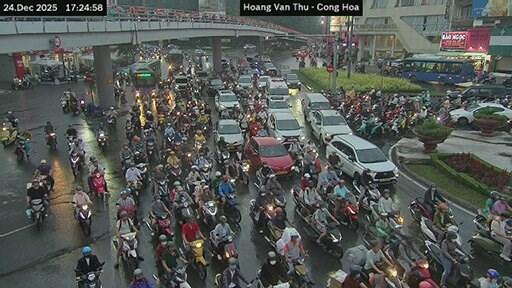motorbike: (467, 217, 502, 255), (179, 238, 207, 279), (447, 251, 473, 286), (208, 229, 236, 261), (153, 265, 189, 287), (336, 193, 358, 229), (319, 223, 342, 257), (374, 261, 403, 287), (74, 261, 102, 287), (249, 198, 274, 224), (121, 232, 137, 270), (359, 183, 380, 211), (409, 197, 434, 220), (297, 212, 320, 237), (26, 198, 44, 229), (294, 257, 312, 286), (425, 239, 440, 273), (153, 212, 172, 238), (153, 178, 169, 207), (176, 197, 195, 221), (419, 216, 437, 241), (224, 193, 240, 221), (201, 201, 216, 228), (90, 171, 105, 198), (0, 124, 18, 145), (387, 202, 403, 225), (76, 207, 89, 234), (128, 180, 140, 205), (237, 160, 249, 184), (134, 163, 147, 185), (167, 163, 182, 181), (445, 225, 460, 243), (474, 207, 486, 229), (214, 148, 229, 165), (13, 139, 25, 160), (365, 202, 378, 221), (473, 73, 495, 84), (70, 152, 80, 175), (96, 130, 106, 151), (147, 139, 156, 162), (199, 163, 210, 181), (121, 153, 131, 172), (47, 130, 56, 148), (70, 99, 80, 115), (361, 270, 370, 286), (124, 125, 134, 139), (194, 140, 204, 153), (60, 98, 69, 112), (352, 180, 359, 198), (105, 115, 115, 126), (327, 198, 336, 210), (79, 95, 85, 112), (66, 135, 73, 149), (502, 76, 511, 86), (112, 238, 118, 247), (448, 207, 453, 216), (284, 261, 287, 268), (147, 225, 150, 229)
